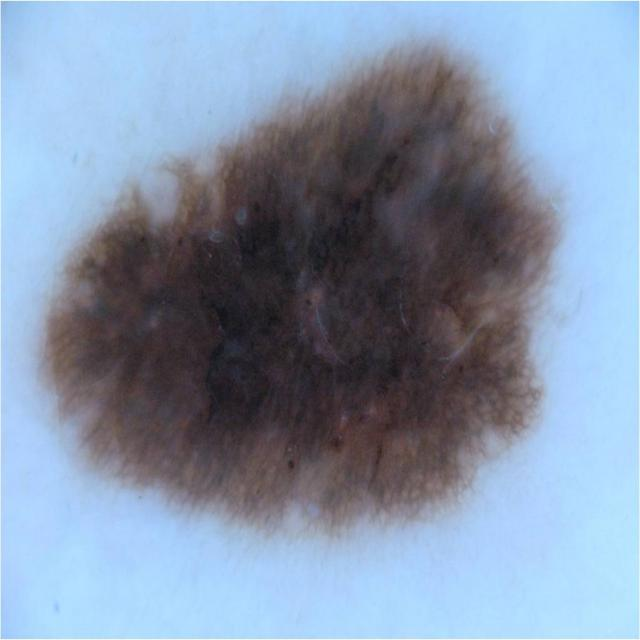Benign: (36, 36, 578, 583)
